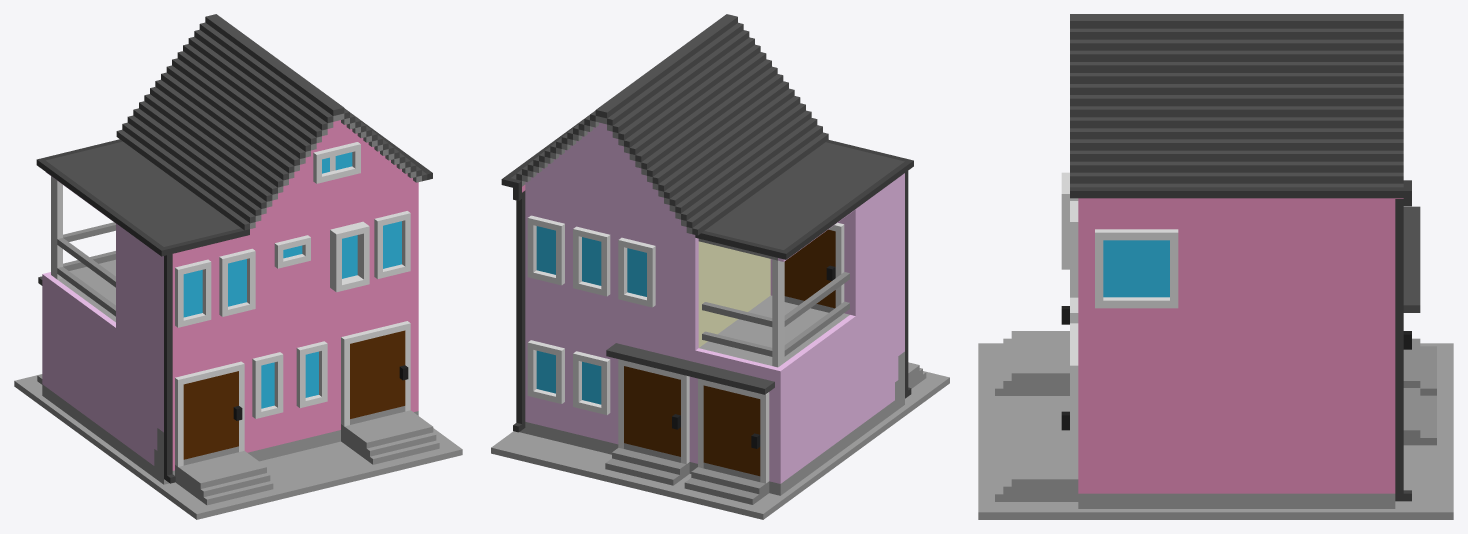
Rendered from bld_house8b.obj.
3 views of the same model, side by side, from view 1: azimuth 30°, elevation 25°; view 2: azimuth 150°, elevation 25°; view 3: azimuth 270°, elevation 25° (orthographic). The views are drawn at different scales.
Size of the model in its own units: 49 by 59 by 57.
1 material, 1 textured.
